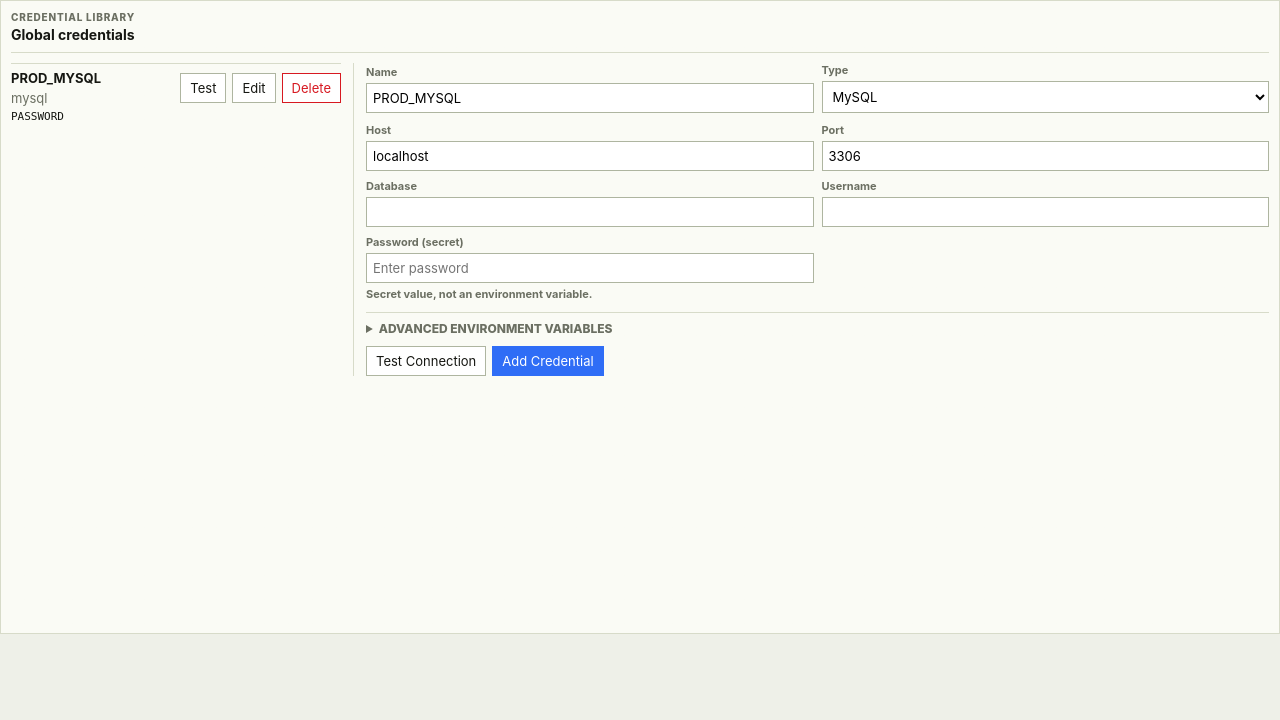
Test: App › tests edited MySQL credentials with stored masked secrets
Click the button "Edit": point(254, 88) [232,73,276,103]
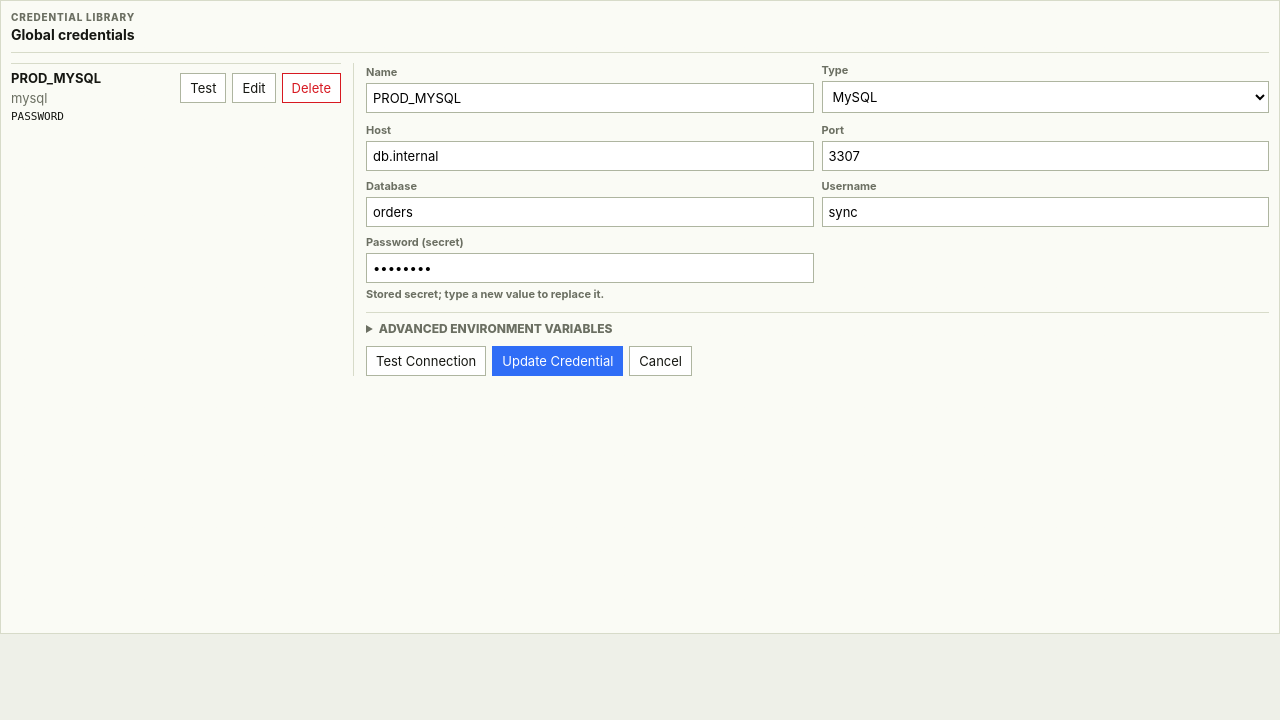
Click the button "Test Connection": point(426, 361) [366,346,486,376]
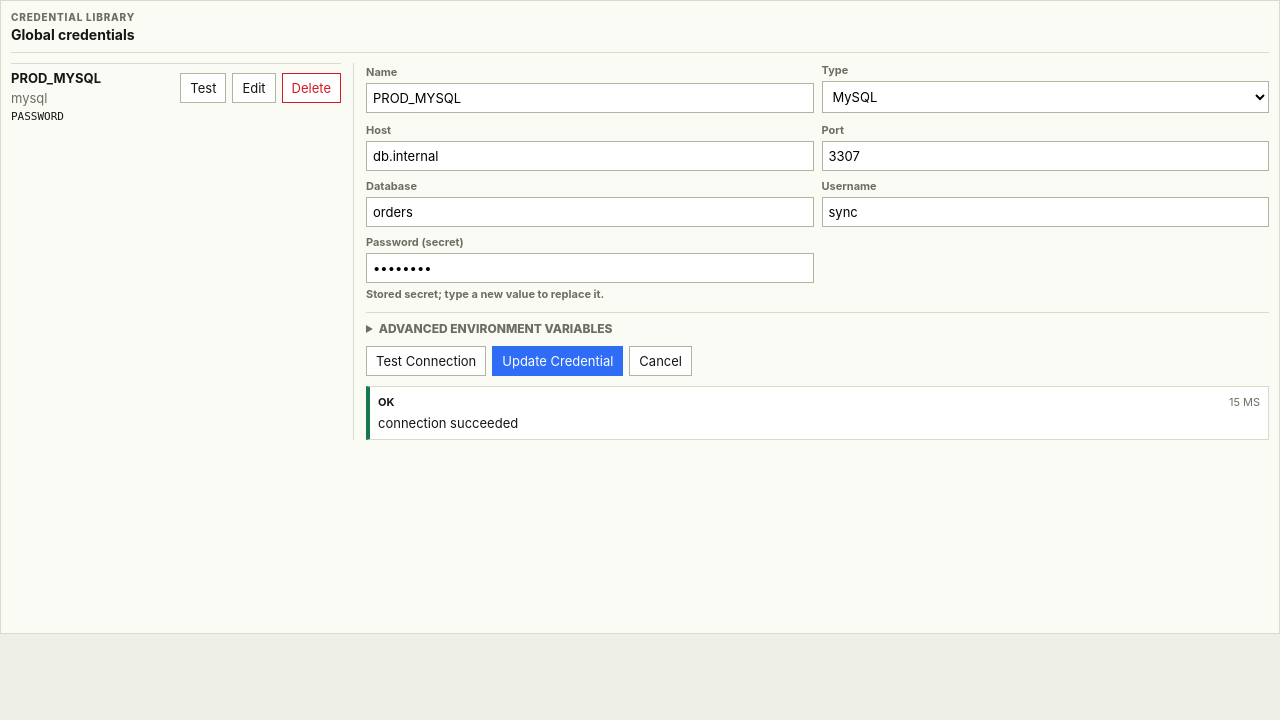
Expected: the text "connection succeeded" is shown, [378,415,518,431]
